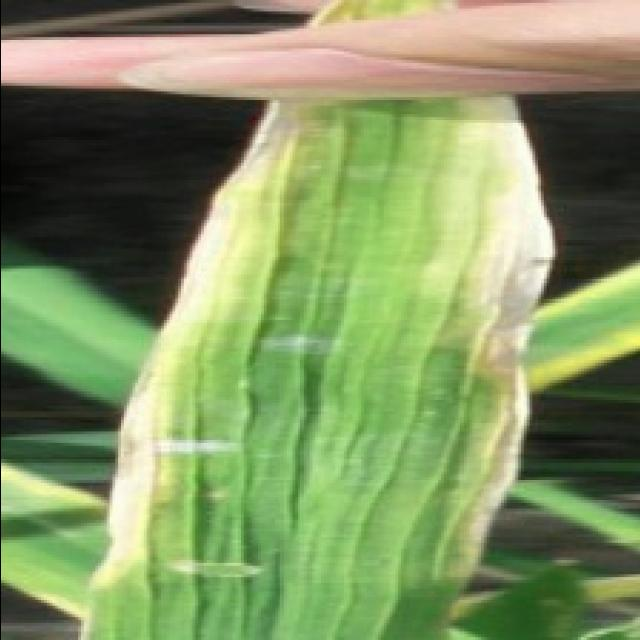Unhealthy: (81, 104, 325, 640), (414, 91, 555, 601), (527, 319, 640, 393), (529, 262, 640, 334), (169, 558, 266, 579), (165, 439, 243, 454), (313, 0, 350, 24)
